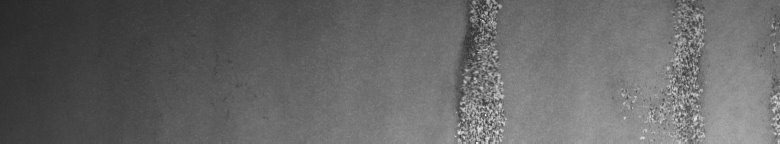hc: (621, 4, 776, 136)
